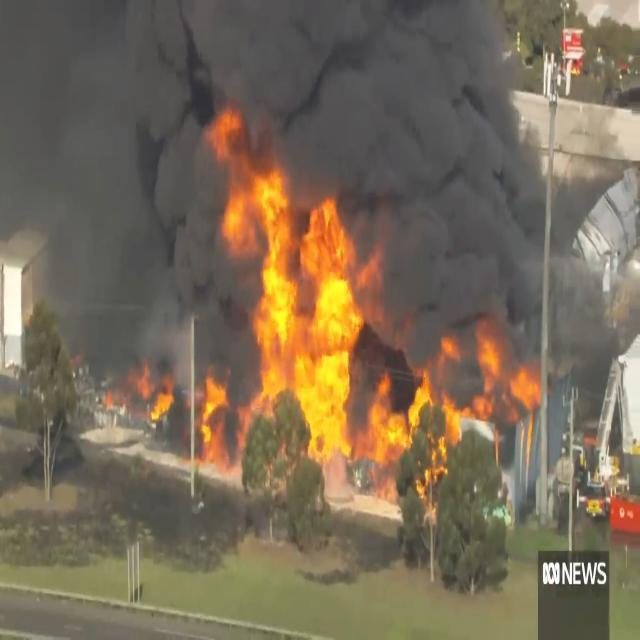fire: (108, 150, 534, 520)
